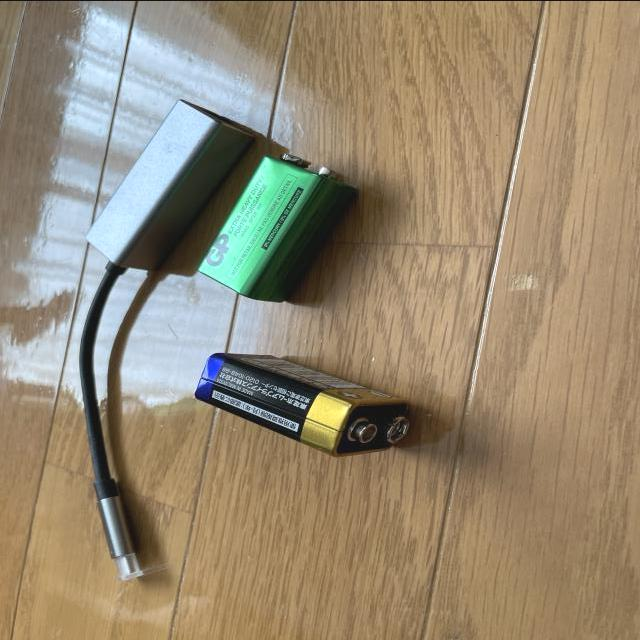9V: (185, 342, 419, 465), (193, 148, 363, 307)
